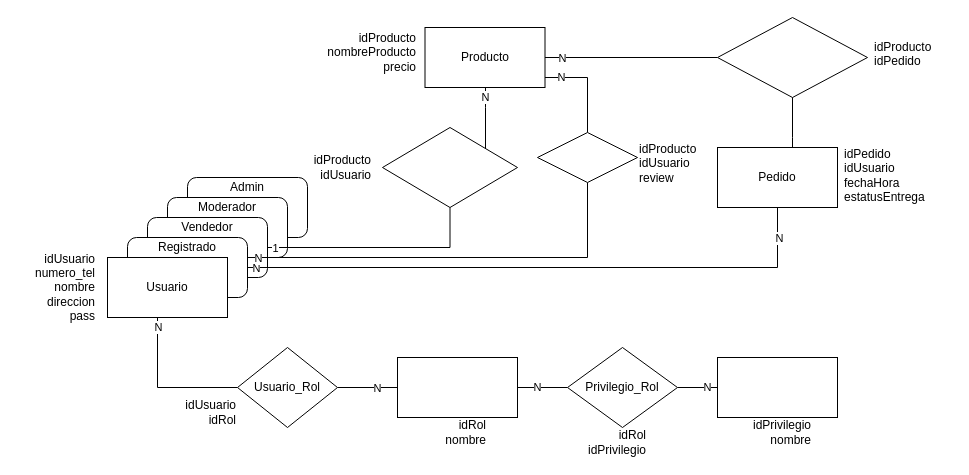
Image size: 969x475. Some labels were removed from this diagram. The shapes that lost their labels are listed below. From the top down, each one's centre as x and y in pixels, then its label:
At point 792,57: "producto_pedido".
At point 450,167: "vendedor_producto".
At point 587,157: "reviews".
At point 457,387: "Rol".
At point 777,387: "Privilegio".
